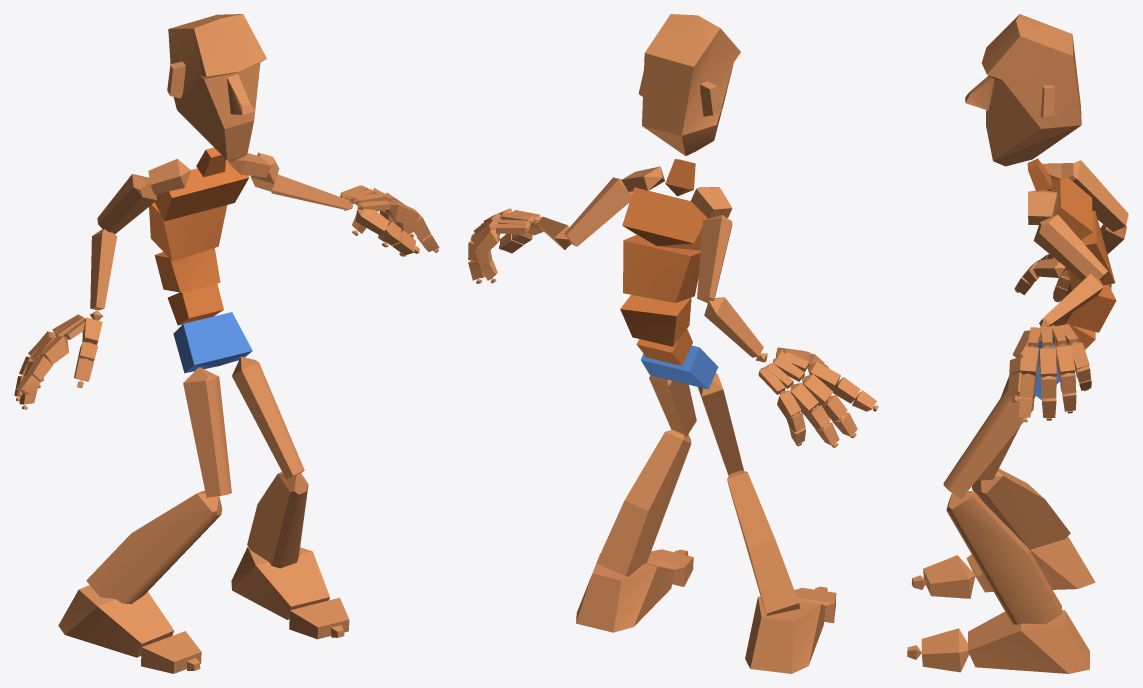
3 renders of one model, left to right at view 1: azimuth 30°, elevation 25°; view 2: azimuth 150°, elevation 25°; view 3: azimuth 270°, elevation 25°, orthographic.
Parts seen in each view (by area): view 1: BOPED_Head, BOPED_R_leg, BOPED_R_foot, BOPED_R_foot01, BOPED_L_leg, BOPED_R_legup, BOPED_L_legup, Bone01, Bone04, Bone05, Bone03, BOPED_R_arm_upper (+8 smaller); view 2: BOPED_Head, BOPED_L_leg, BOPED_R_foot01, BOPED_R_foot, BOPED_R_leg, Bone04, Bone05, Bone03, BOPED_R_arm_upper, BOPED_R_legup, BOPED_L_arm_upper, Bone01 (+8 smaller); view 3: BOPED_Head, BOPED_L_leg, BOPED_R_foot01, BOPED_R_leg, BOPED_L_legup, BOPED_R_foot, BOPED_L_arm_upper, Bone05, BOPED_R_foot_toe01, BOPED_R_arm_upper, BOPED_R_foot_toe04, Bone03 (+15 smaller).
Part boxes in pixels (x1,y1,x2,y2): BOPED_Head: [167, 14, 266, 161]; BOPED_R_leg: [86, 490, 222, 604]; BOPED_R_foot: [58, 585, 174, 657]; BOPED_R_foot01: [231, 547, 329, 619]; BOPED_L_leg: [247, 472, 308, 568]; BOPED_R_legup: [183, 367, 231, 497]; BOPED_L_legup: [232, 357, 304, 479]; Bone01: [173, 312, 252, 373]; Bone04: [149, 202, 227, 261]; Bone05: [155, 160, 249, 221]; Bone03: [154, 248, 220, 292]; BOPED_R_arm_upper: [97, 174, 156, 233]; BOPED_Head: [638, 14, 740, 155]; BOPED_L_leg: [596, 429, 691, 576]; BOPED_R_foot01: [576, 553, 674, 632]; BOPED_R_foot: [745, 596, 825, 673]; BOPED_R_leg: [727, 470, 800, 615]; Bone04: [623, 235, 700, 302]; Bone05: [622, 187, 708, 250]; Bone03: [620, 295, 691, 346]; BOPED_R_arm_upper: [697, 215, 732, 303]; BOPED_R_legup: [698, 373, 743, 475]; BOPED_L_arm_upper: [564, 177, 632, 246]; Bone01: [641, 345, 718, 389]; BOPED_Head: [965, 14, 1081, 166]; BOPED_L_leg: [946, 491, 1061, 624]; BOPED_R_foot01: [968, 610, 1089, 673]; BOPED_R_leg: [972, 468, 1070, 549]; BOPED_L_legup: [943, 387, 1033, 498]; BOPED_R_foot: [966, 536, 1095, 592]; BOPED_L_arm_upper: [1033, 214, 1107, 280]; Bone05: [1050, 177, 1092, 239]; BOPED_R_foot_toe01: [923, 555, 975, 598]; BOPED_R_arm_upper: [1068, 160, 1128, 231]; BOPED_R_foot_toe04: [921, 628, 969, 672]; Bone03: [1065, 282, 1116, 332].
Size of the model in its own units: 130 by 181 by 59.77.
